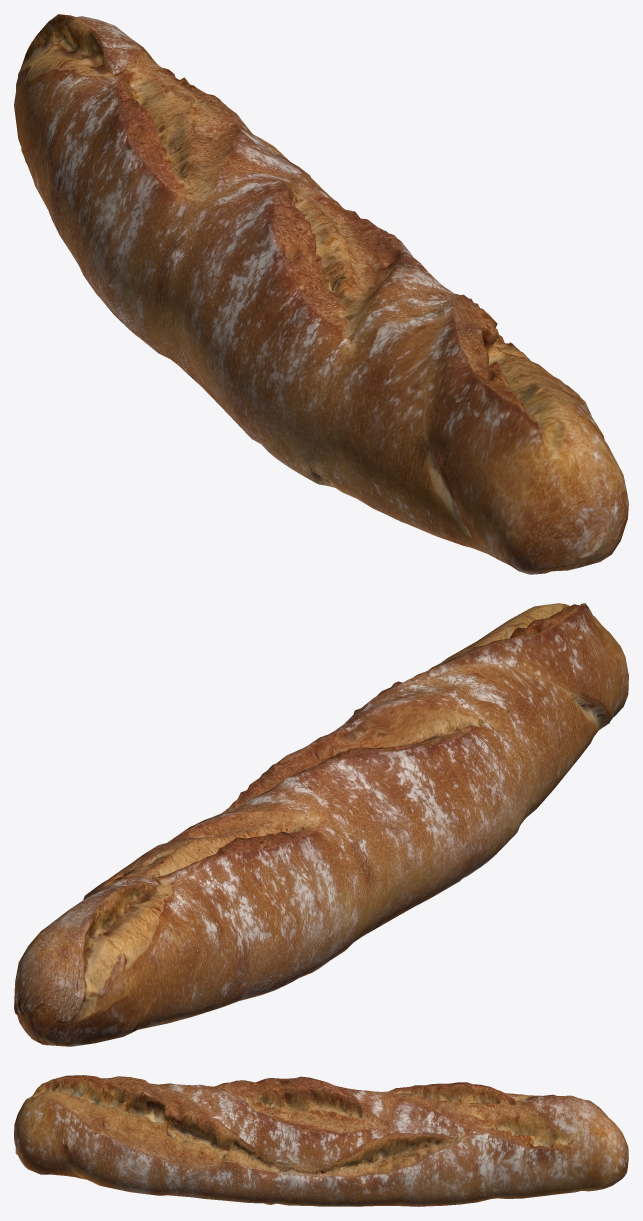
Rendered from garbacho.glb.
3 views of the same model, one above another, from view 1: azimuth 30°, elevation 25°; view 2: azimuth 150°, elevation 25°; view 3: azimuth 270°, elevation 25° (orthographic). The views are drawn at different scales.
Parts seen in each view (by area): view 1: 3DModel_1; view 2: 3DModel_1; view 3: 3DModel_1.
Boxes of the visible parts, box(x1,y1,x2,y2) form: 3DModel_1: box(14, 14, 628, 574); 3DModel_1: box(14, 603, 628, 1046); 3DModel_1: box(14, 1075, 628, 1206).
Bounding box in the file's own units: 1.38 × 1.08 × 5.94.
Materials: 1 (1 with a texture image).
